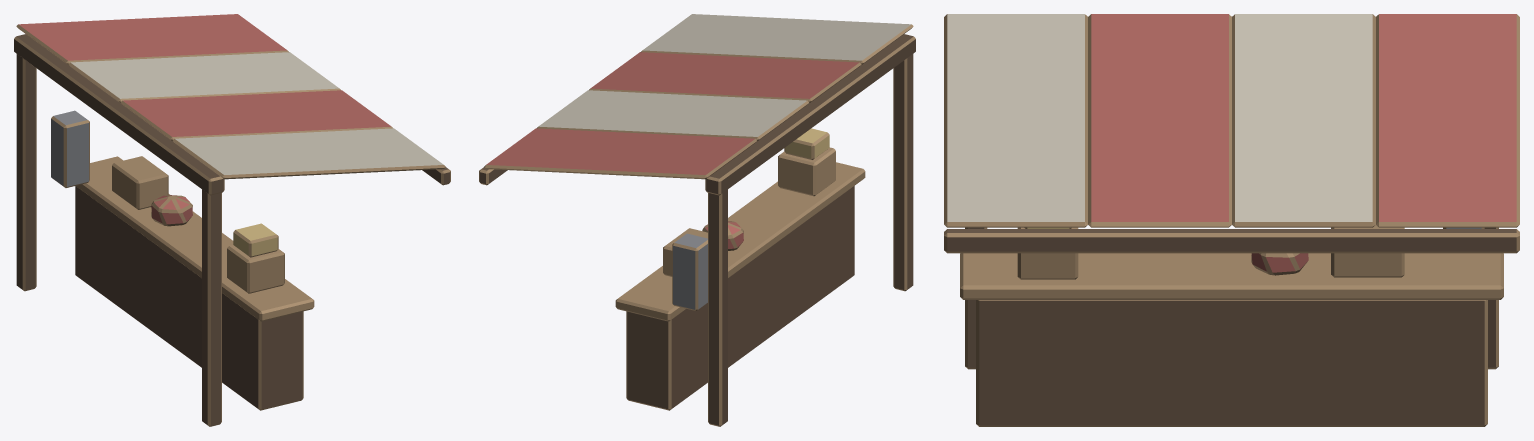
The model's file is SM_Kit_banca.fbx.
3 renders of one model, left to right at view 1: azimuth 30°, elevation 25°; view 2: azimuth 150°, elevation 25°; view 3: azimuth 270°, elevation 25°, orthographic. The views are drawn at different scales.
Visible parts, largest first — view 1: SM_Kit_banca; view 2: SM_Kit_banca; view 3: SM_Kit_banca.
Boxes of the visible parts, box(x1,y1,x2,y2) form: SM_Kit_banca: box(14, 14, 450, 426); SM_Kit_banca: box(479, 14, 915, 426); SM_Kit_banca: box(944, 14, 1519, 426).
Size of what is drawn, in the model's own units: 236 by 244 by 360.
